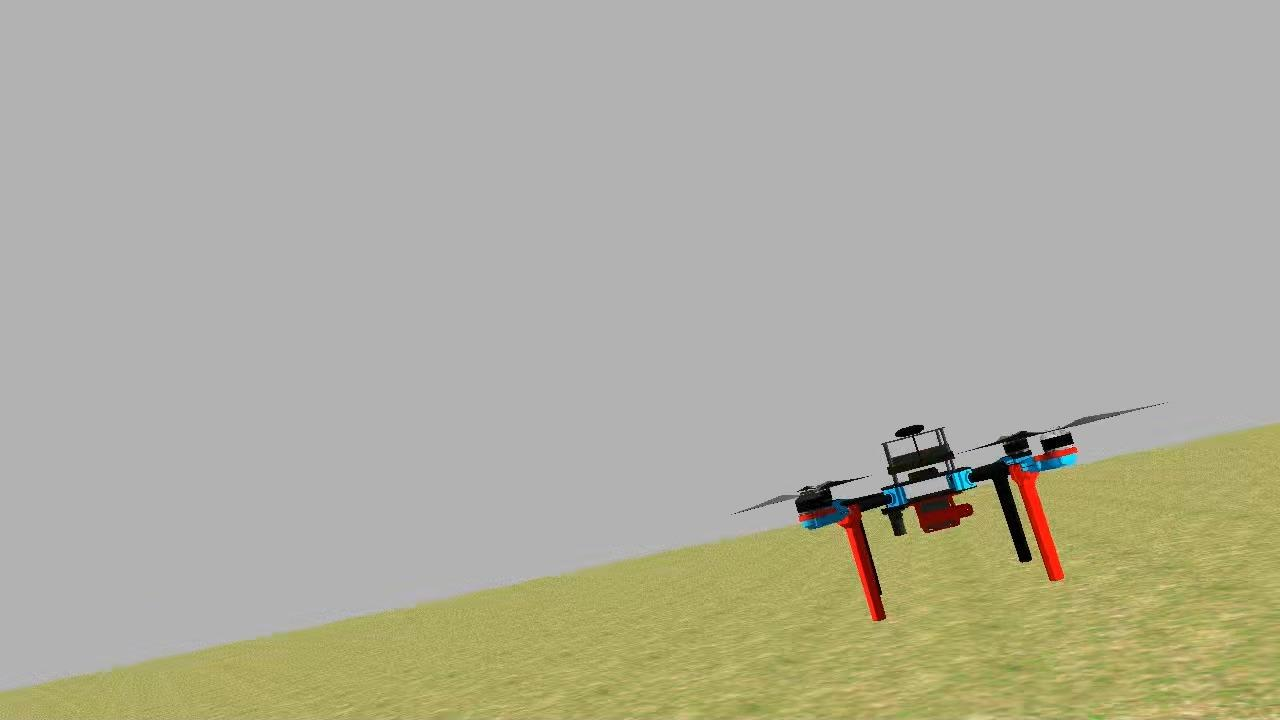UAV: (786, 411, 1086, 623)
